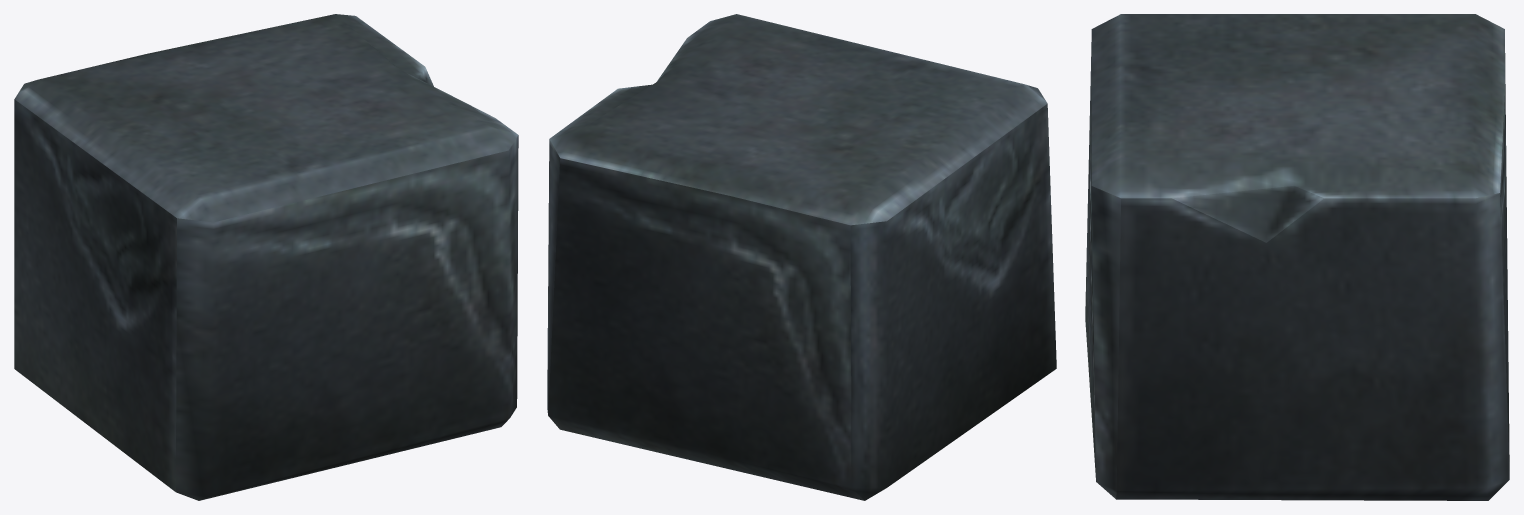
The model's file is B_shikuai008.fbx.
3 views of the same model, side by side, from view 1: azimuth 30°, elevation 25°; view 2: azimuth 150°, elevation 25°; view 3: azimuth 270°, elevation 25° (orthographic). The views are drawn at different scales.
Visible parts, largest first — view 1: B_shikuai008; view 2: B_shikuai008; view 3: B_shikuai008.
Boxes of the visible parts, x1,y1,x2,y2 form: B_shikuai008: [14, 14, 518, 500]; B_shikuai008: [547, 14, 1056, 500]; B_shikuai008: [1085, 14, 1509, 500].
Bounding box in the file's own units: 53.11 × 43.86 × 51.67.
